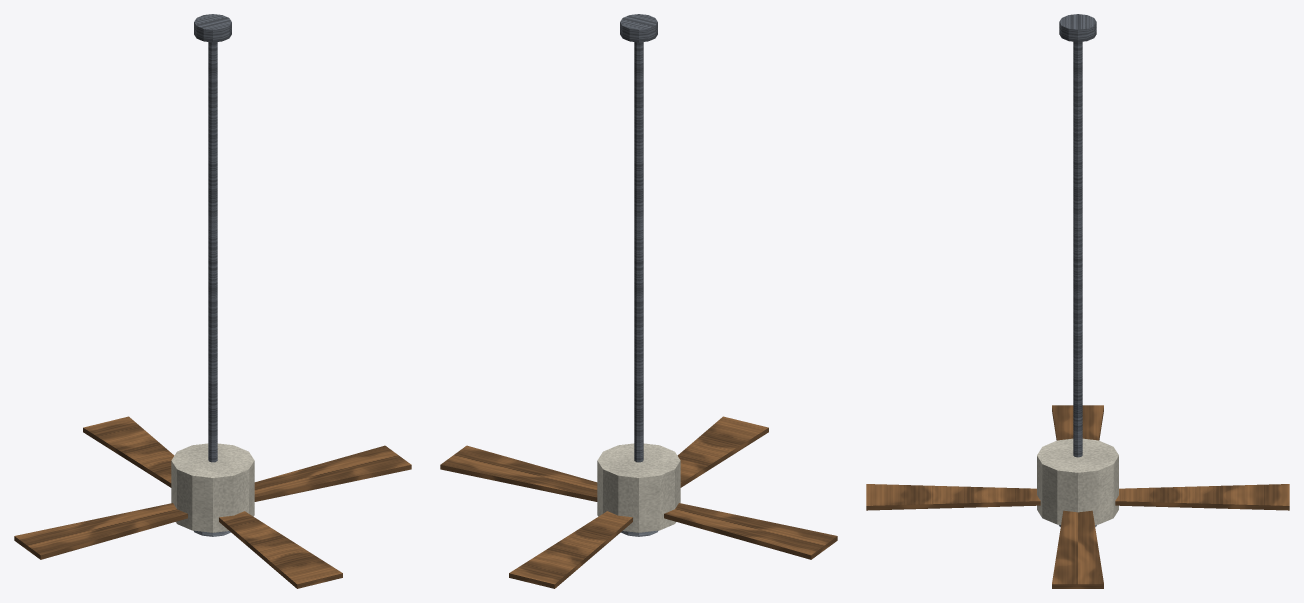
The model's file is ceiling_fan.fbx.
The picture shows the model from 3 angles, left to right: view 1: azimuth 30°, elevation 25°; view 2: azimuth 150°, elevation 25°; view 3: azimuth 270°, elevation 25°; orthographic projection.
Visible parts, largest first — view 1: ceiling_fan; view 2: ceiling_fan; view 3: ceiling_fan.
Part boxes in pixels (bbox=[...]): ceiling_fan: bbox=[14, 14, 411, 588]; ceiling_fan: bbox=[440, 14, 837, 588]; ceiling_fan: bbox=[866, 14, 1289, 588].
Bounding box in the file's own units: 170 × 221 × 170.
